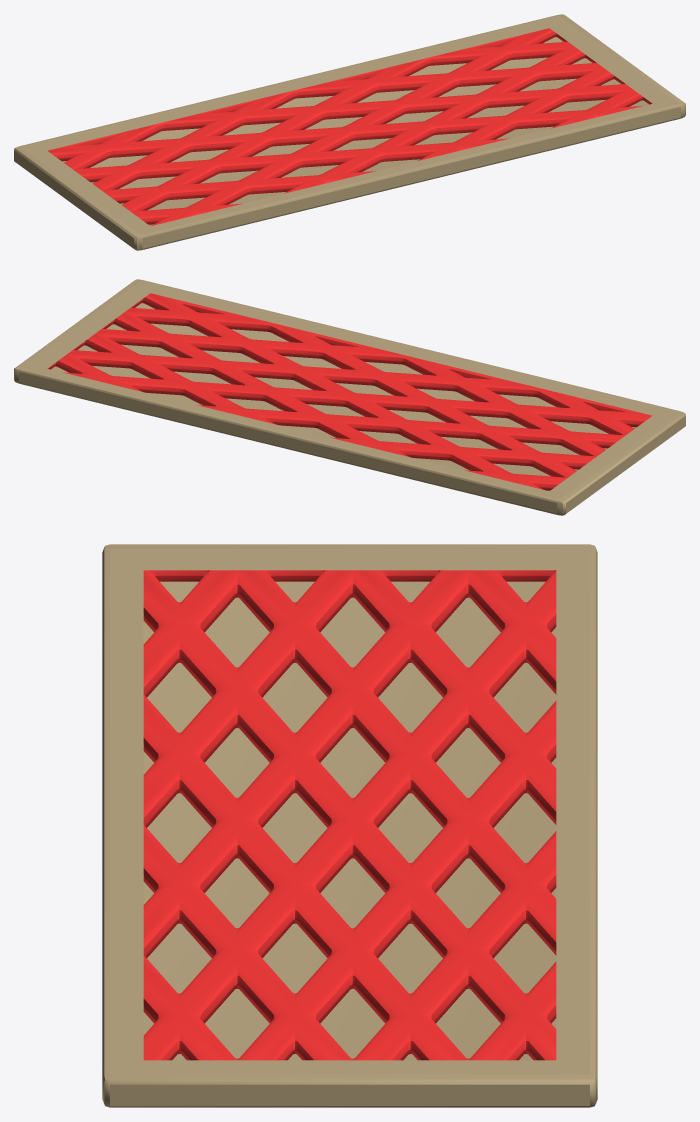
File: RespiraderoRectanguloMallaGorda.fbx
3 renders of one model, top to bottom at view 1: azimuth 30°, elevation 25°; view 2: azimuth 150°, elevation 25°; view 3: azimuth 270°, elevation 25°, orthographic. The views are drawn at different scales.
Visible parts, largest first — view 1: RespiraderoRectanguloMallaGorda; view 2: RespiraderoRectanguloMallaGorda; view 3: RespiraderoRectanguloMallaGorda.
Part boxes in pixels (left/top/right/bottom): RespiraderoRectanguloMallaGorda: left=14, top=14, right=685, bottom=250; RespiraderoRectanguloMallaGorda: left=14, top=279, right=685, bottom=515; RespiraderoRectanguloMallaGorda: left=102, top=544, right=597, bottom=1107.
Bounding box in the file's own units: 5.13 × 0.1308 × 1.99.
